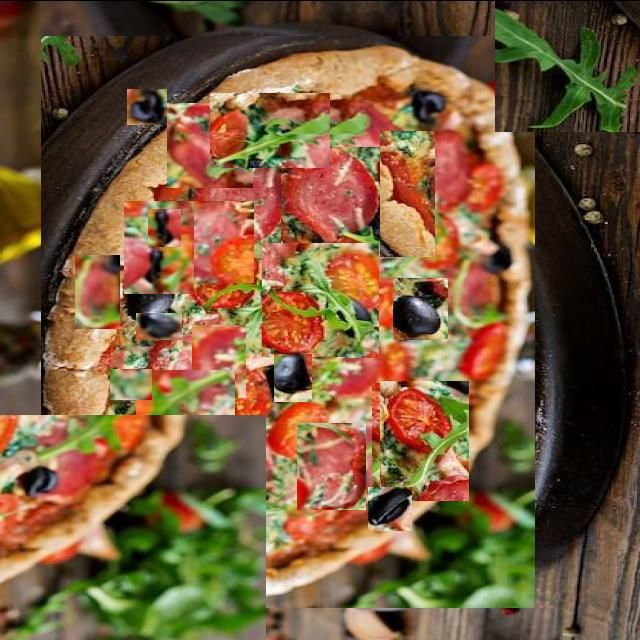basil: (0, 414, 266, 640), (495, 0, 640, 131), (262, 242, 379, 356), (380, 380, 469, 500), (136, 369, 235, 460), (210, 92, 330, 167), (372, 382, 436, 488), (124, 200, 194, 293), (76, 254, 121, 328), (164, 0, 247, 25), (110, 368, 152, 399)
olive: (394, 277, 449, 338), (258, 150, 296, 202), (368, 486, 412, 530), (274, 353, 312, 401), (127, 88, 167, 124), (59, 235, 95, 272), (148, 208, 181, 246), (136, 312, 182, 339), (208, 466, 246, 496)
pepperoni: (281, 146, 384, 247), (346, 314, 430, 404), (167, 102, 253, 187), (166, 200, 254, 282), (380, 130, 435, 256), (297, 422, 366, 509), (102, 129, 170, 214), (169, 427, 231, 498), (69, 259, 136, 324), (192, 324, 246, 397)
pizza: (41, 35, 535, 607)
